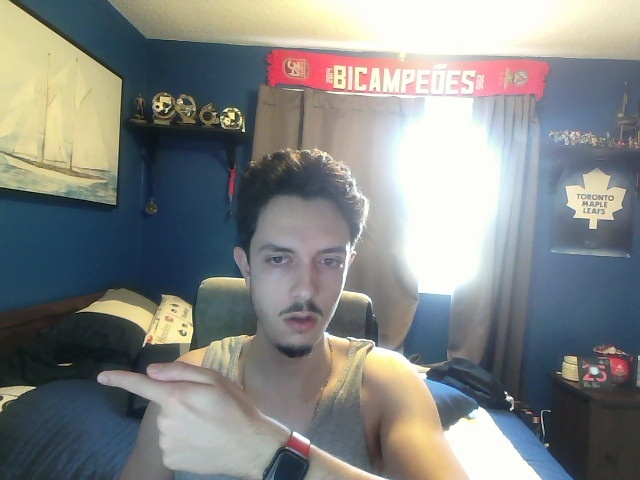Right: (96, 361, 260, 477)
